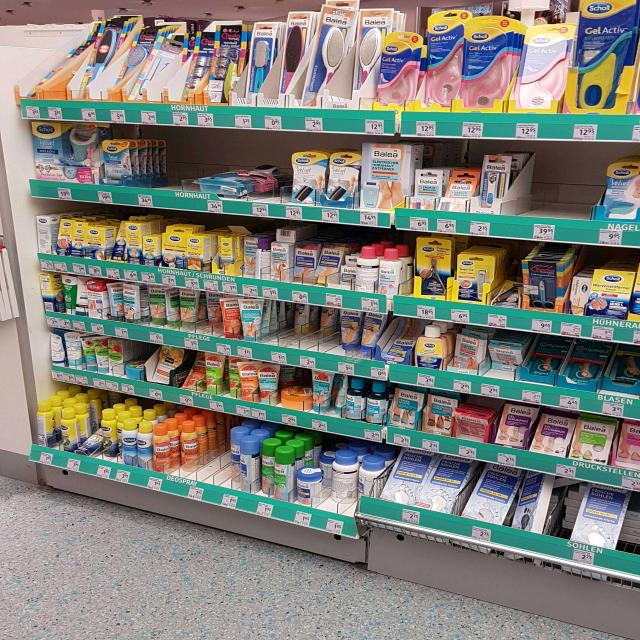empty: (510, 147, 599, 241), (122, 128, 188, 204)
